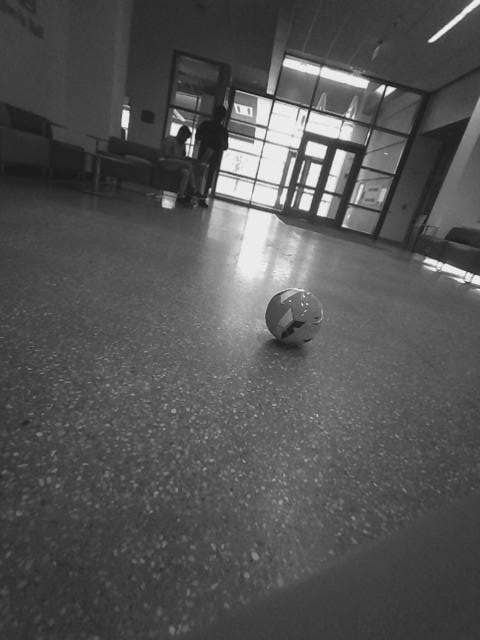ball: (113, 208, 134, 228)
